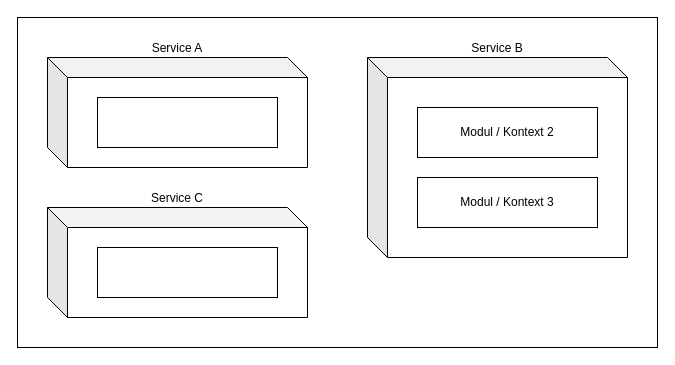
The diagram is 675 pixels wide and 365 high, and some of its shapes have lost their labels. Each missing label, with the centre of its shape:
Kontext 1: the point at 187,122
Kontext 4: the point at 187,272
